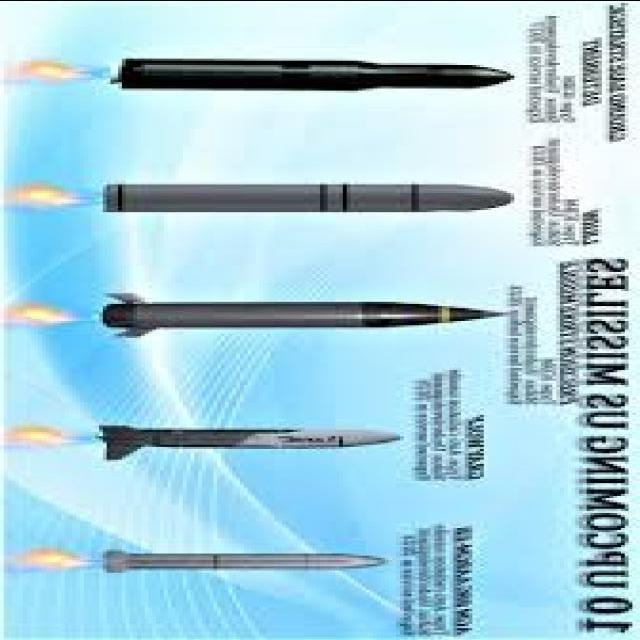Missile: (94, 47, 522, 99), (99, 287, 504, 341), (87, 414, 404, 463), (96, 533, 388, 581), (114, 183, 515, 212)
